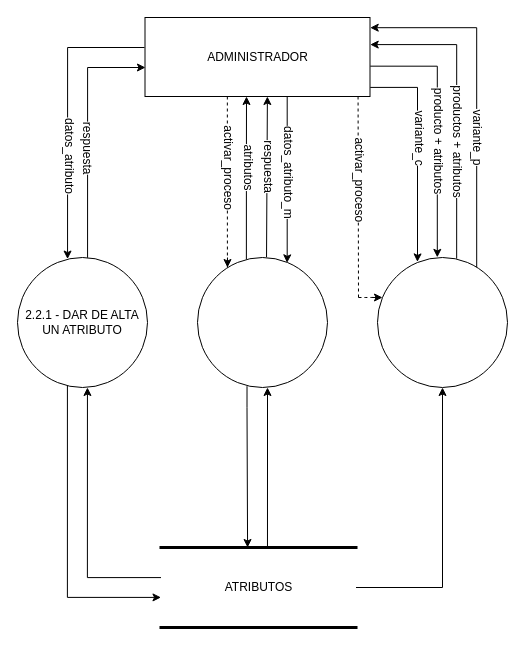
This 525x646 diagram has some shape labels left out. Each missing label, with the centre of its shape:
"2.2.2 - MODIFICAR ATRIBUTO" goes at (262,322).
"2.2.3 - GENERAR VARIANTES" goes at (442,322).
